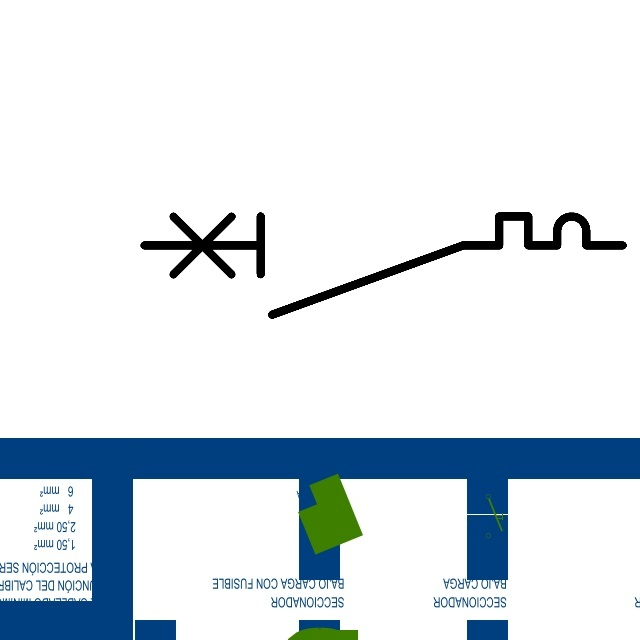interruptor_termomagnetico: (132, 204, 635, 327)
